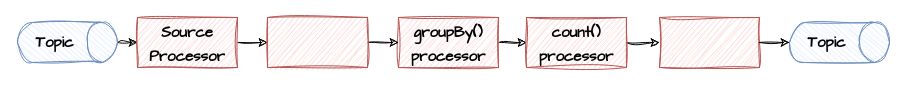
Image size: 907x85. Some labels were removed from this diagram. The shapes that lost their labels are listed below. From the top down, each one's centre as x and y in pixels, then its label:
the point at 317,42: selectKey() processor
the point at 709,42: Sink Processor
